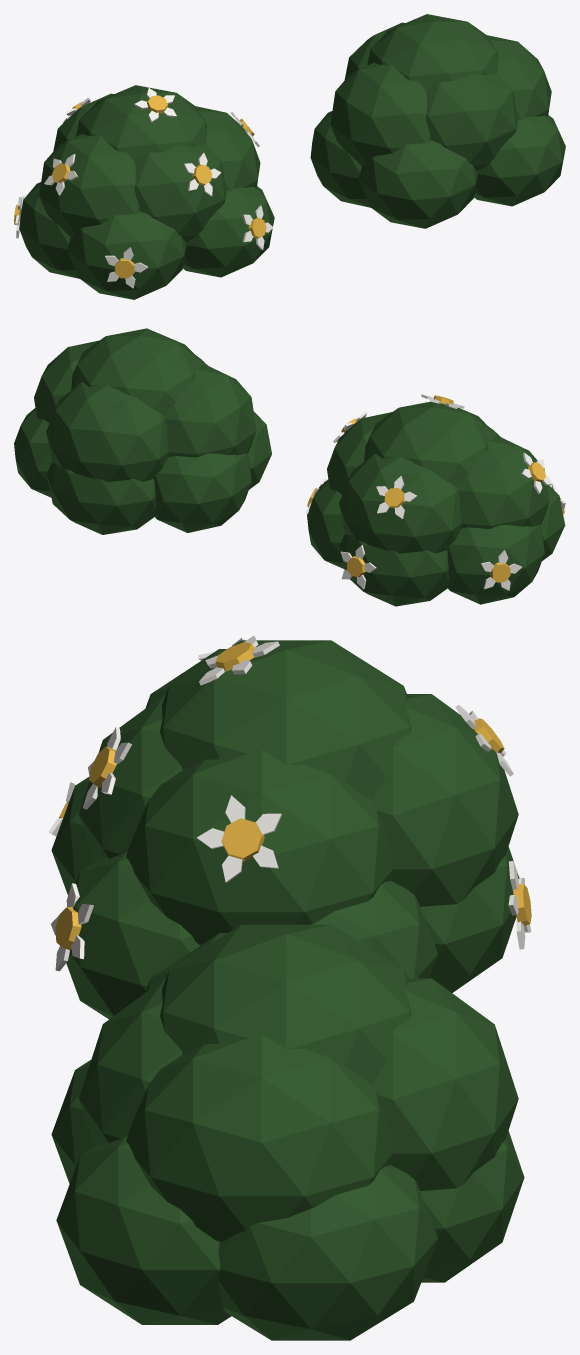
Rendered from bushes.fbx.
3 renders of one model, top to bottom at view 1: azimuth 30°, elevation 25°; view 2: azimuth 150°, elevation 25°; view 3: azimuth 270°, elevation 25°, orthographic. The views are drawn at different scales.
Visible parts, largest first — view 1: Bush_Mid_Left.001, Bush_Base_FR, Flower_Lower_CR_Petal_3.001, Flower_Top_Petal_4.001, Flower_Upper_L_Petal_0.001, Flower_Lower_CR_Petal_3; view 2: Bush_Mid_Left.001, Bush_Base_FR, Flower_Lower_CR_Petal_3.001; view 3: Bush_Mid_Left.001, Bush_Base_FR, Flower_Lower_CR_Petal_3.001, Flower_Lower_CR_Petal_3, Flower_Top_Petal_4.001, Flower_Upper_L_Petal_0.001.
Part boxes in pixels (<box>): Bush_Mid_Left.001: <box>310,14,565,228</box>; Bush_Base_FR: <box>19,85,274,299</box>; Flower_Lower_CR_Petal_3.001: <box>14,97,259,288</box>; Flower_Top_Petal_4.001: <box>183,152,221,196</box>; Flower_Upper_L_Petal_0.001: <box>134,88,176,122</box>; Flower_Lower_CR_Petal_3: <box>242,205,273,249</box>; Bush_Mid_Left.001: <box>14,328,271,534</box>; Bush_Base_FR: <box>307,401,564,606</box>; Flower_Lower_CR_Petal_3.001: <box>305,412,565,590</box>; Bush_Mid_Left.001: <box>51,924,524,1340</box>; Bush_Base_FR: <box>51,640,519,1019</box>; Flower_Lower_CR_Petal_3.001: <box>48,638,531,949</box>; Flower_Lower_CR_Petal_3: <box>51,883,93,971</box>; Flower_Top_Petal_4.001: <box>83,727,131,809</box>; Flower_Upper_L_Petal_0.001: <box>199,635,279,685</box>.
Size of the model in its own units: 717 by 237 by 295.
